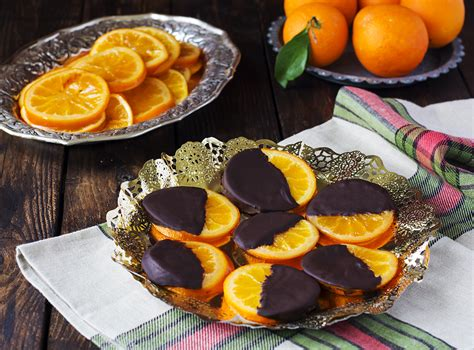orange: (350, 2, 433, 81), (273, 1, 349, 66)
